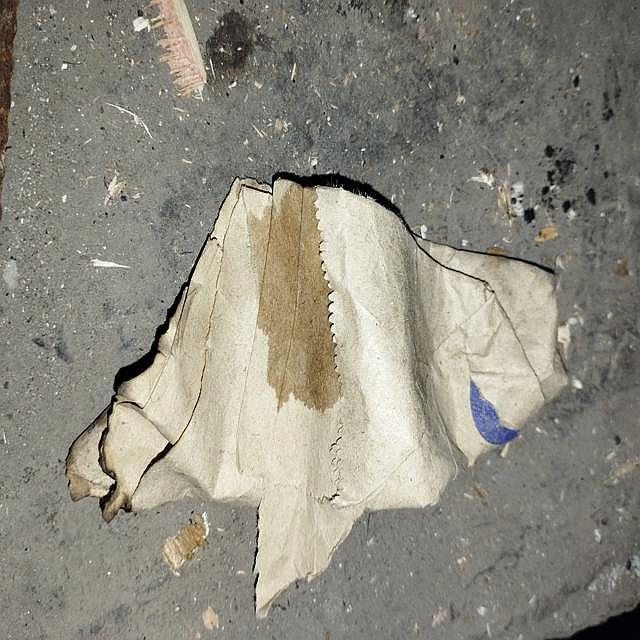Biodegradable: (71, 181, 561, 561)
